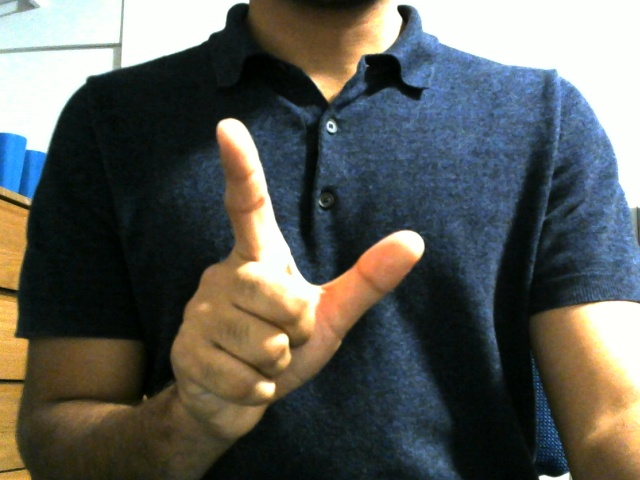L: (161, 109, 436, 410)
